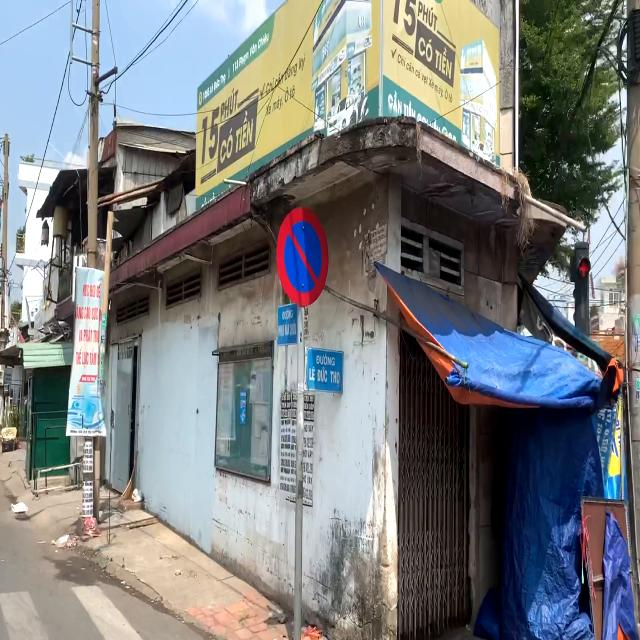P.131a: (278, 205, 331, 311)
